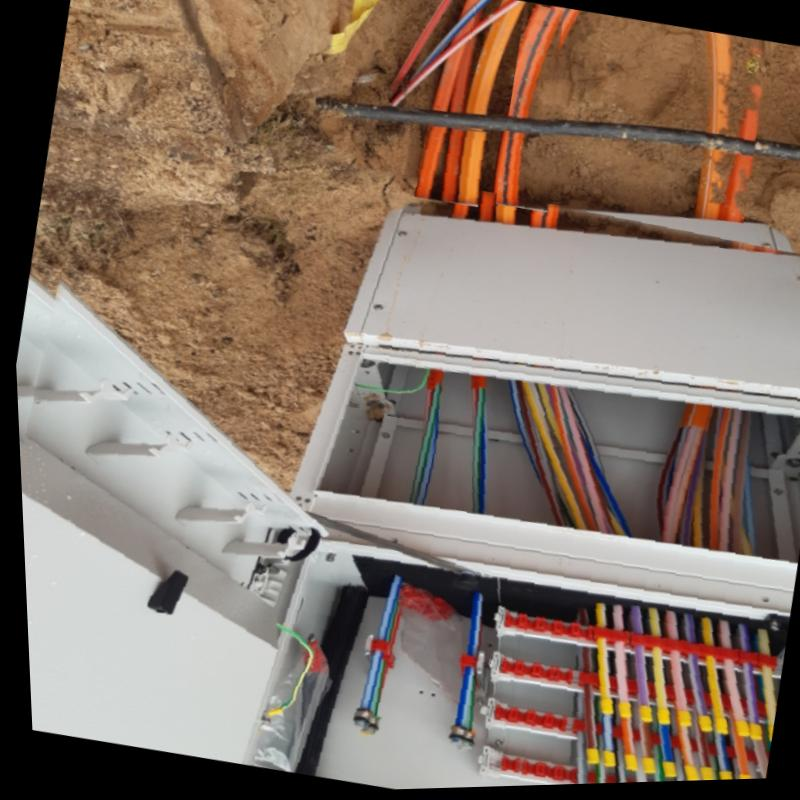NT-Gehause: (16, 219, 800, 792)
Orang-Speednetrohrchen: (495, 9, 566, 209), (697, 36, 757, 226), (414, 128, 485, 206)
